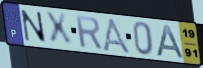0: (131, 20, 155, 57)
A: (100, 16, 133, 55), (155, 23, 186, 60)
N: (19, 8, 48, 45)
R: (74, 14, 104, 51)
X: (43, 11, 74, 47)
